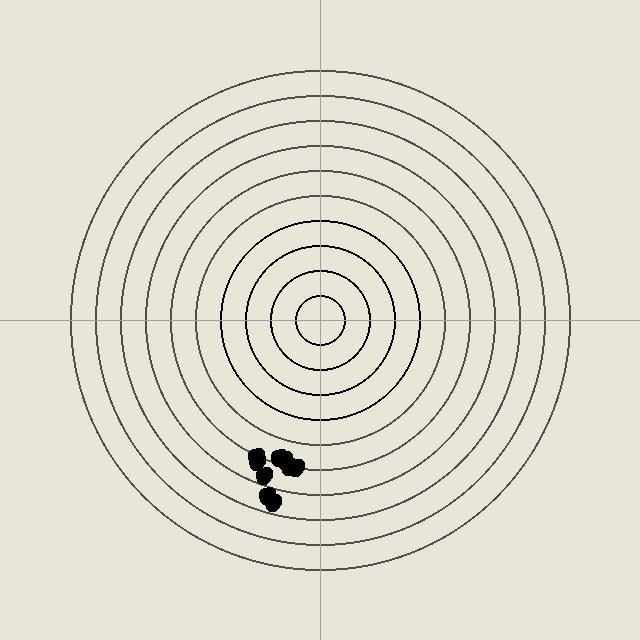good_group: (253, 465, 273, 485), (285, 457, 305, 477), (256, 485, 276, 505), (262, 492, 282, 512), (278, 456, 298, 476), (268, 447, 288, 467), (273, 449, 293, 469), (245, 446, 265, 466), (246, 451, 266, 471)
